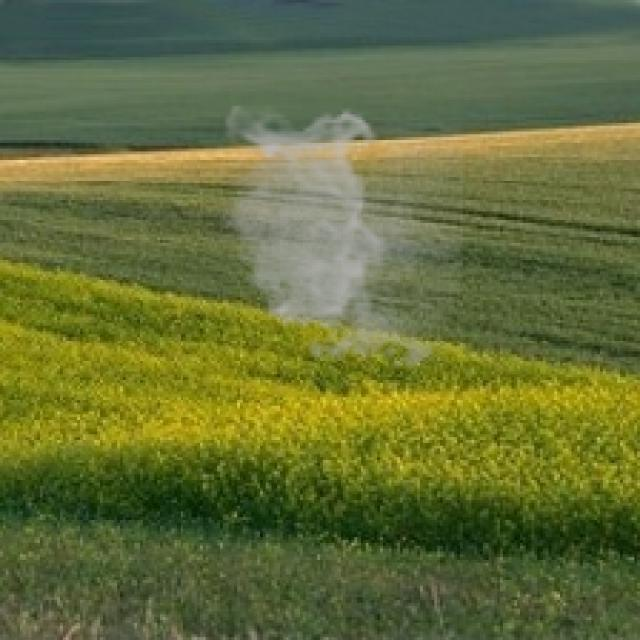smoke: (211, 106, 463, 377)
